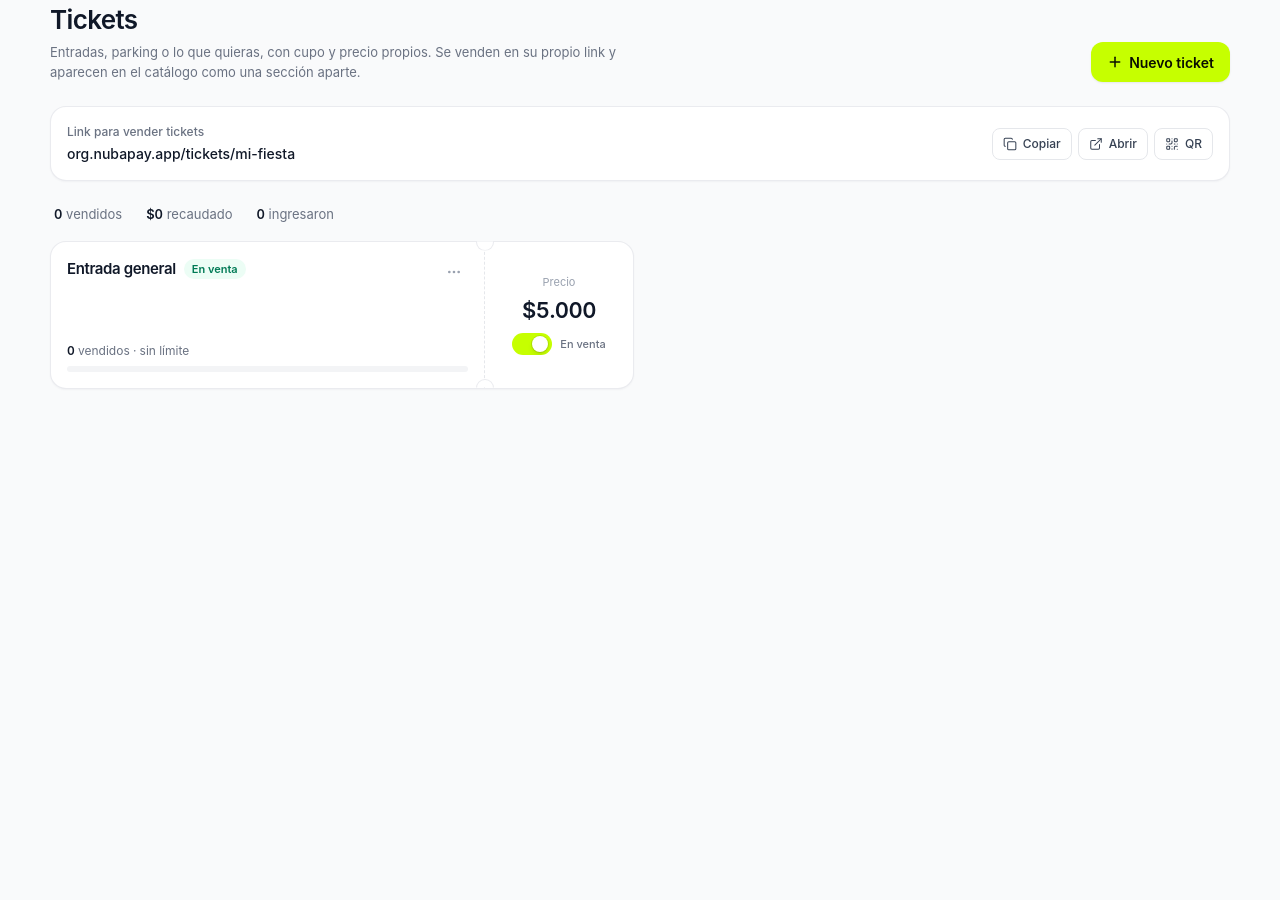
Test: TicketsView › elimina un ticket tras confirmar
Click the button named "Opciones de Entrada general".
click(454, 272)  # box [440, 258, 468, 286]
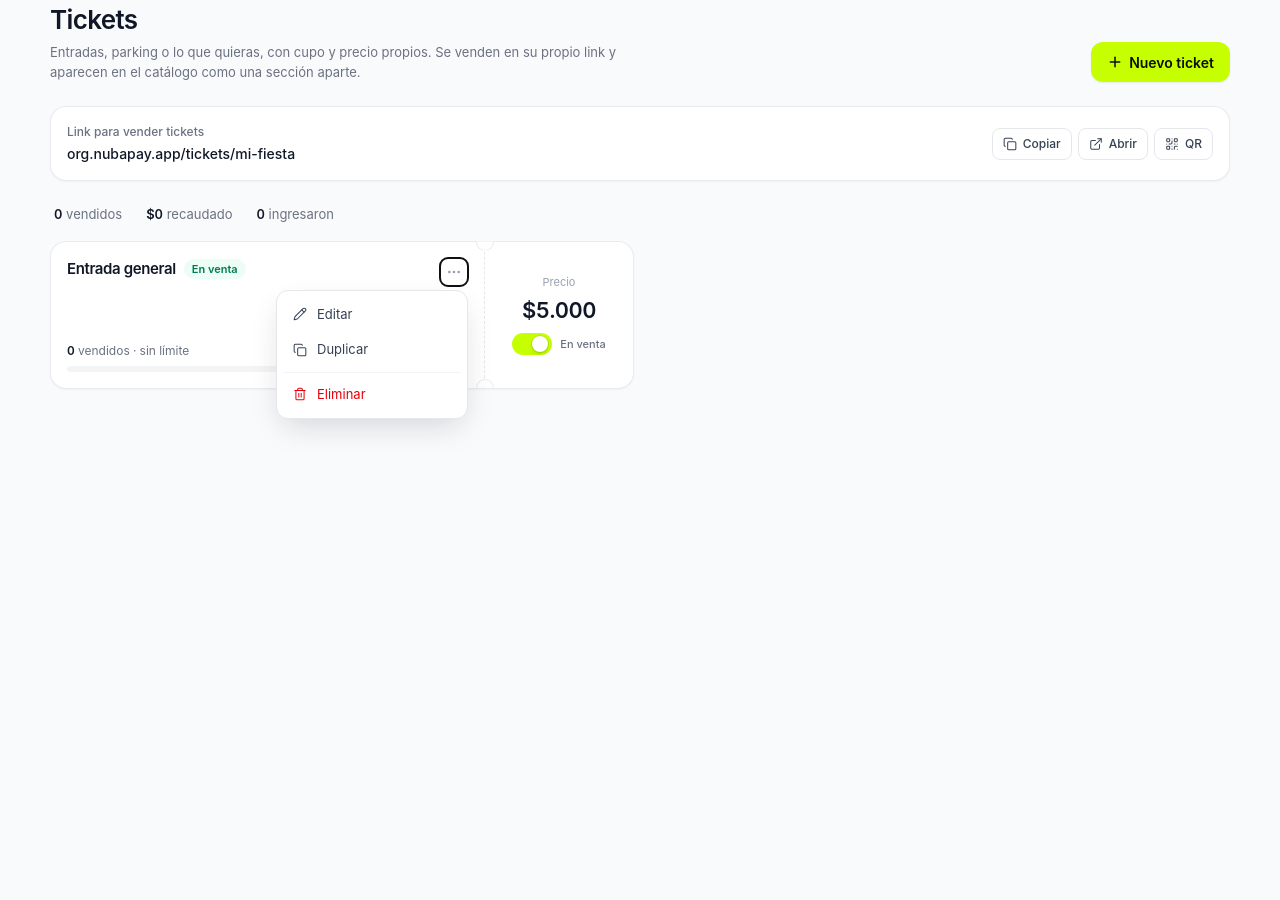
Click the menu item "Eliminar".
click(372, 394)  # box [283, 376, 461, 412]
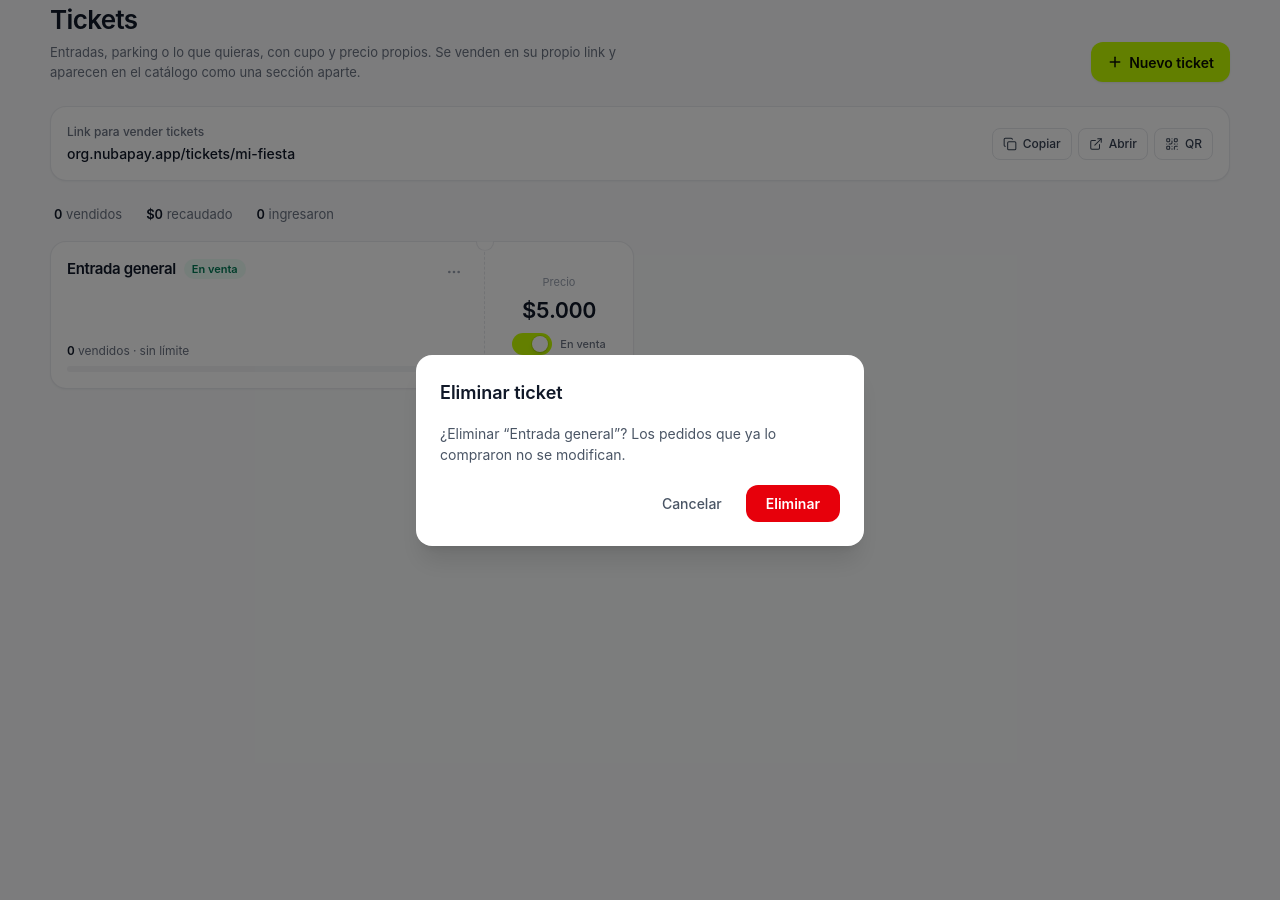
Click the button "Eliminar".
click(793, 503)  # box [746, 484, 840, 522]
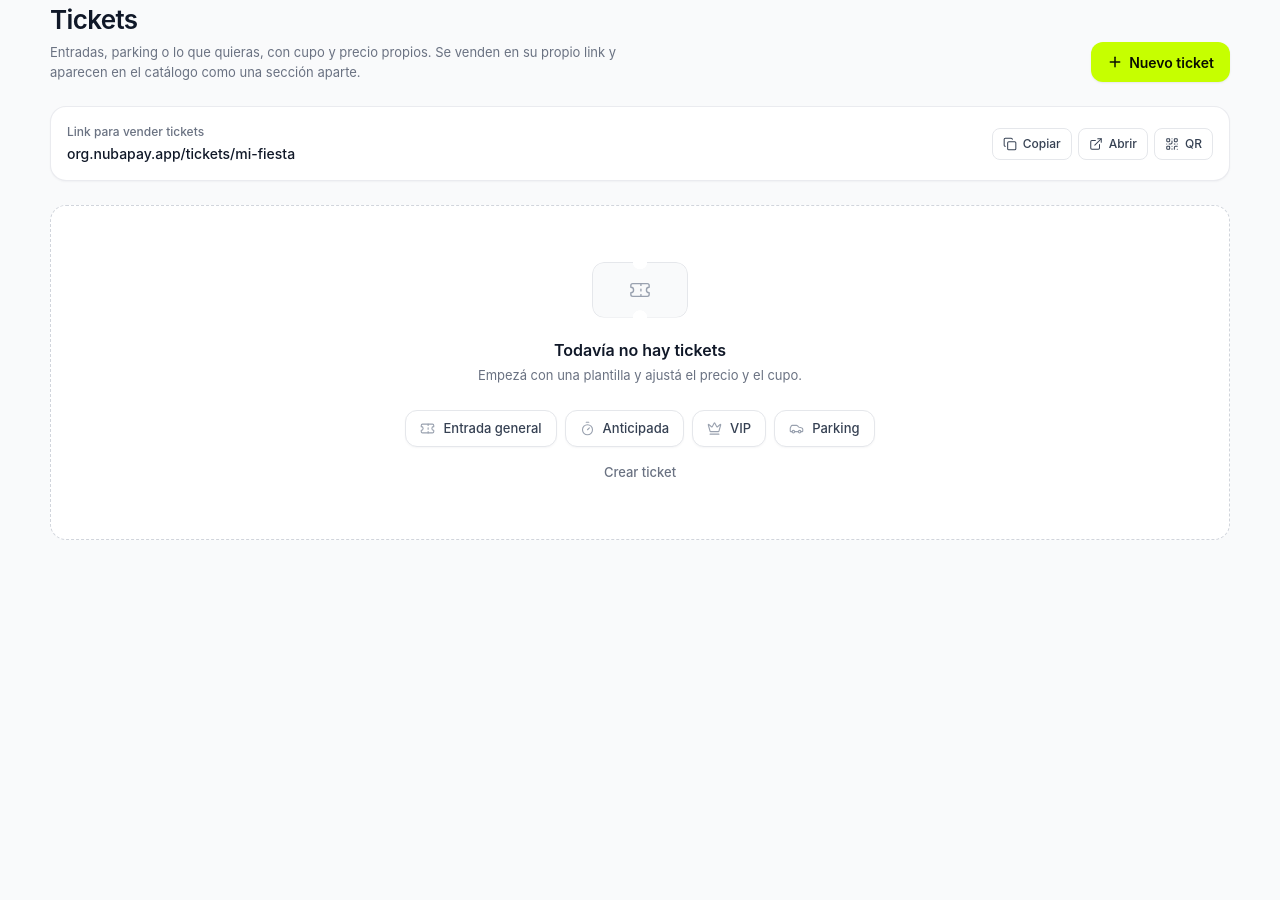
Expected: the text "Todavía no hay tickets" is shown, [554, 340, 726, 360]
